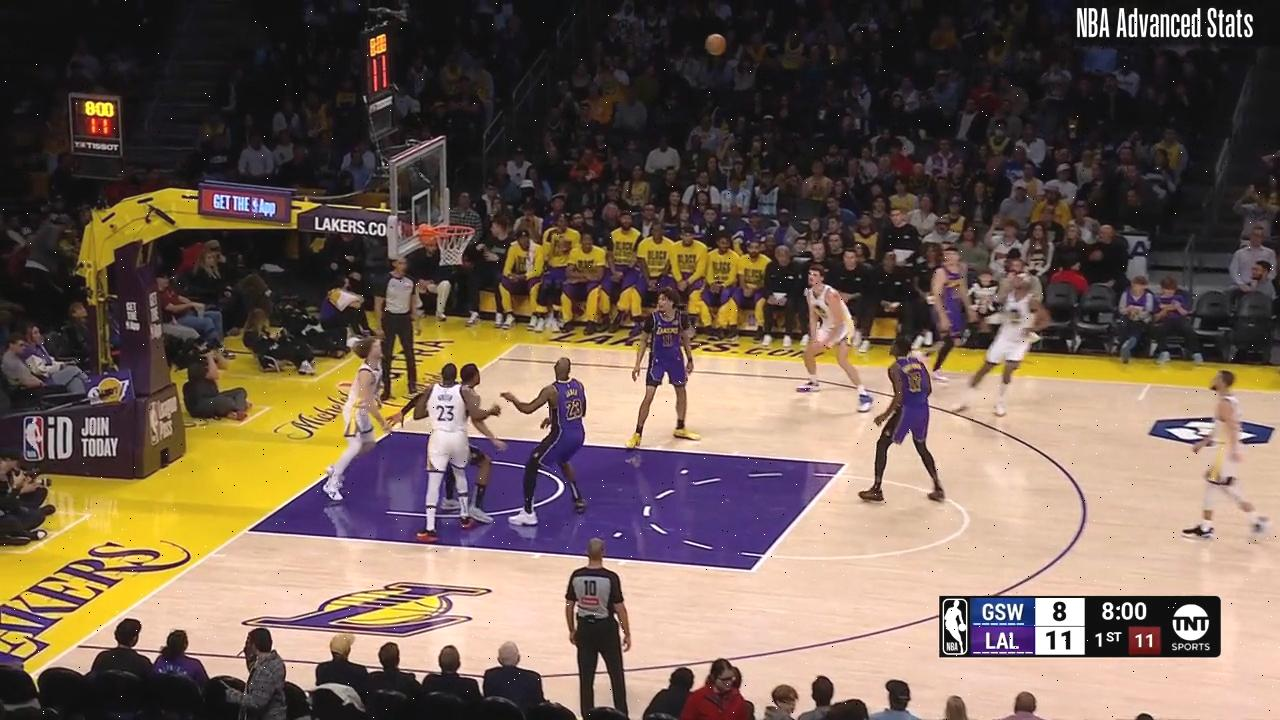basketball: (704, 30, 728, 58)
